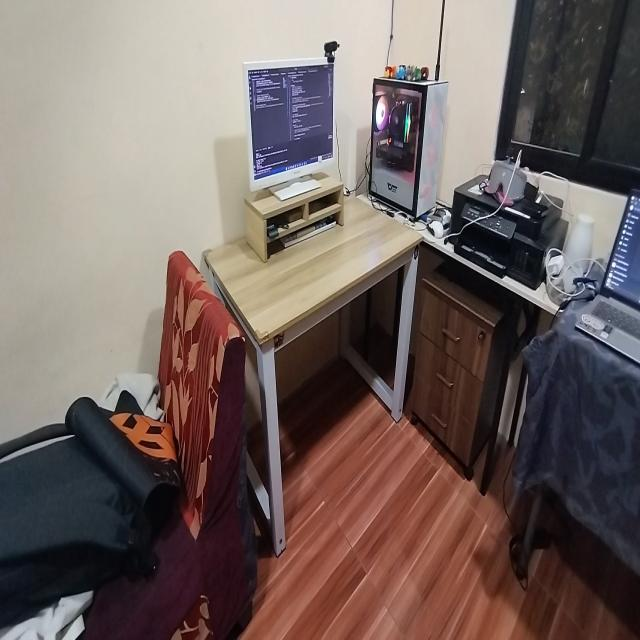table: (233, 194, 423, 538)
